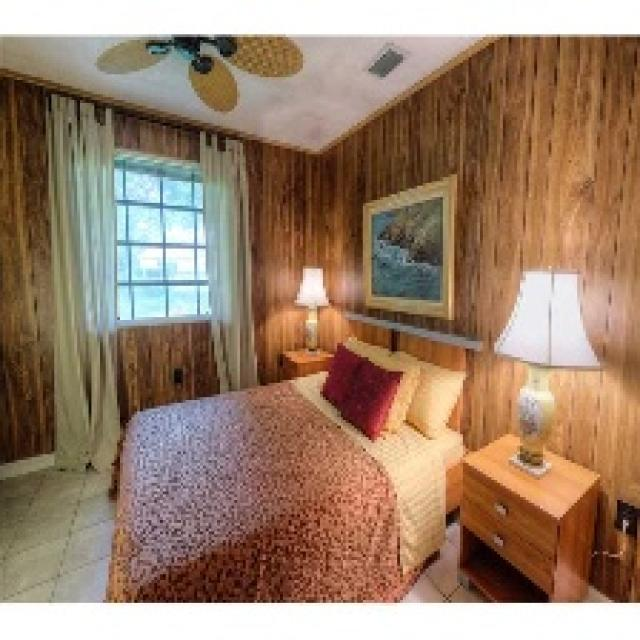Bed: (103, 311, 480, 603)
